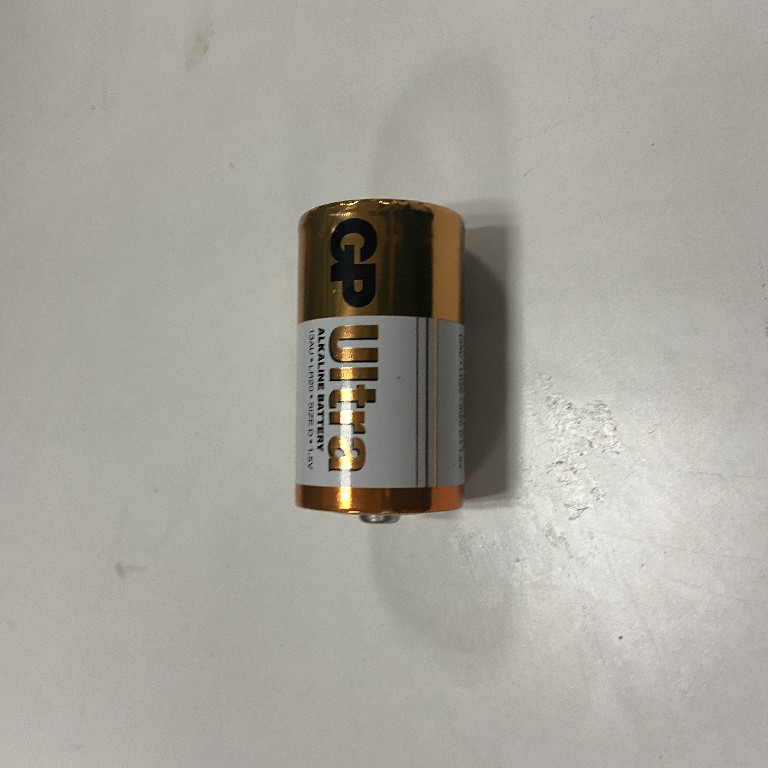charge: (285, 196, 467, 525)
